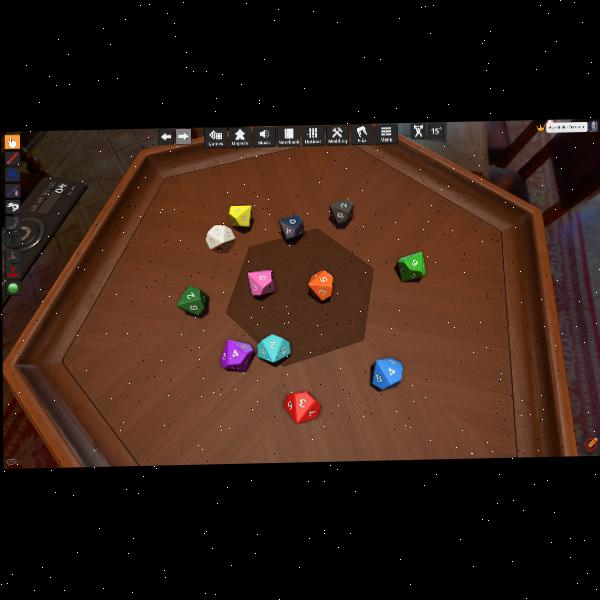d10: (283, 389, 321, 423), (220, 338, 253, 372), (257, 333, 291, 363), (177, 286, 208, 318), (370, 356, 399, 389), (308, 270, 334, 302), (397, 251, 423, 281), (248, 269, 275, 297), (206, 224, 233, 252), (278, 213, 303, 240), (330, 198, 353, 225), (228, 204, 250, 227)
